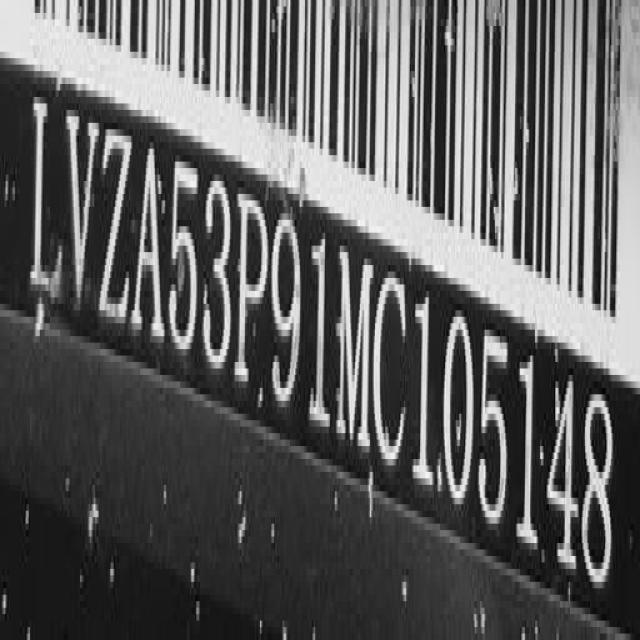0: (442, 292, 477, 519)
1: (517, 340, 545, 562), (413, 279, 437, 502), (311, 228, 332, 458)
3: (205, 160, 234, 383)
4: (547, 366, 582, 580)
5: (170, 140, 203, 364), (480, 312, 511, 534)
8: (582, 379, 623, 598)
9: (272, 197, 304, 429)
A: (138, 132, 168, 351)
C: (375, 254, 411, 478)
L: (28, 81, 65, 315)
M: (335, 232, 374, 462)
P: (236, 175, 268, 409)
V: (63, 86, 99, 321)
Z: (100, 112, 132, 330)
